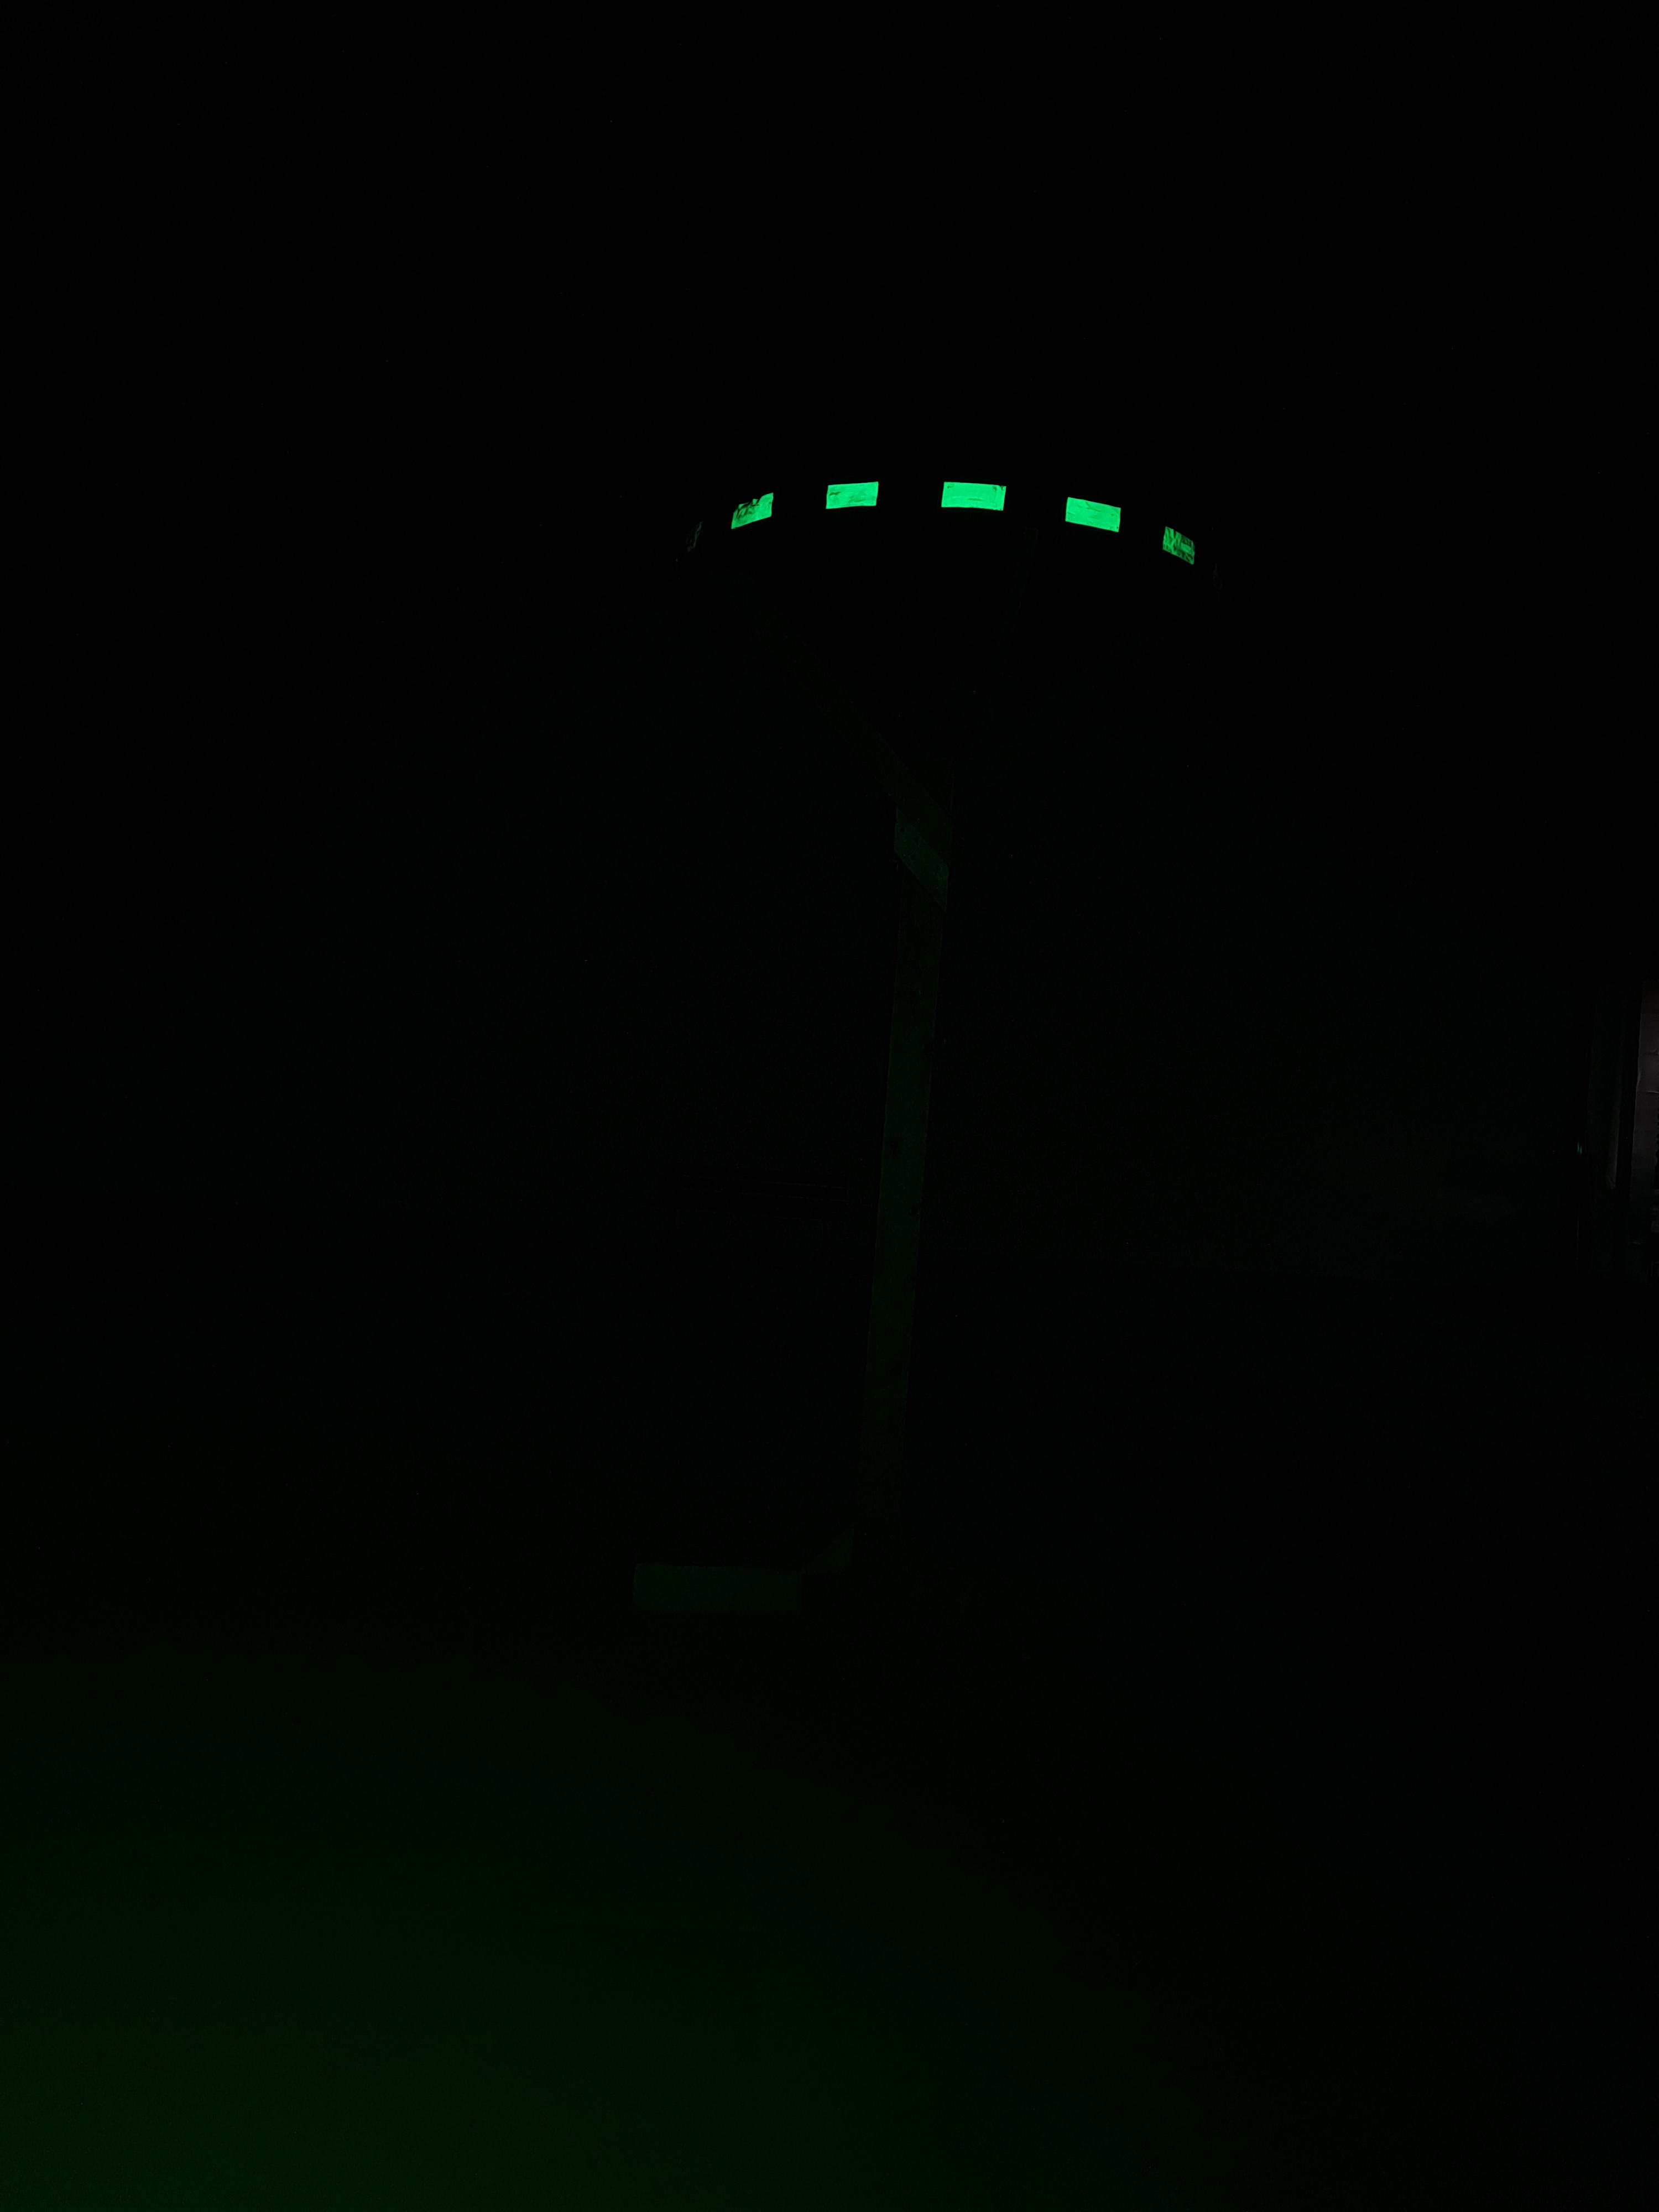hoop: (730, 472, 1194, 575)
